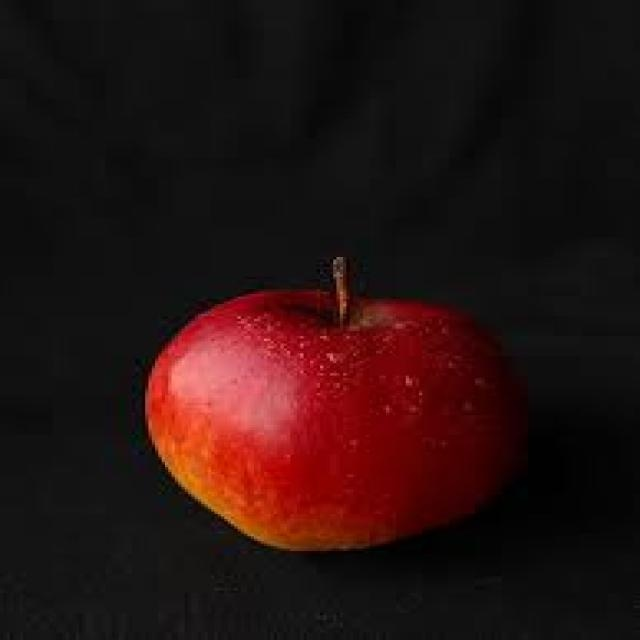agrume: (111, 264, 569, 593)
